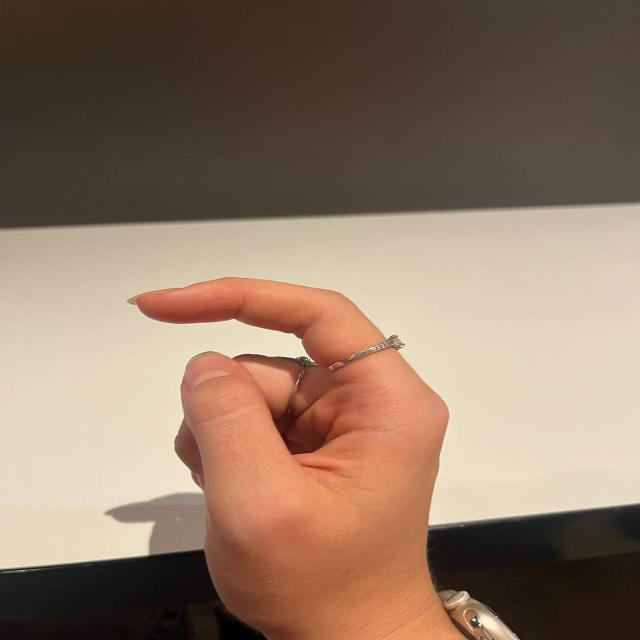kh: (96, 268, 496, 627)
